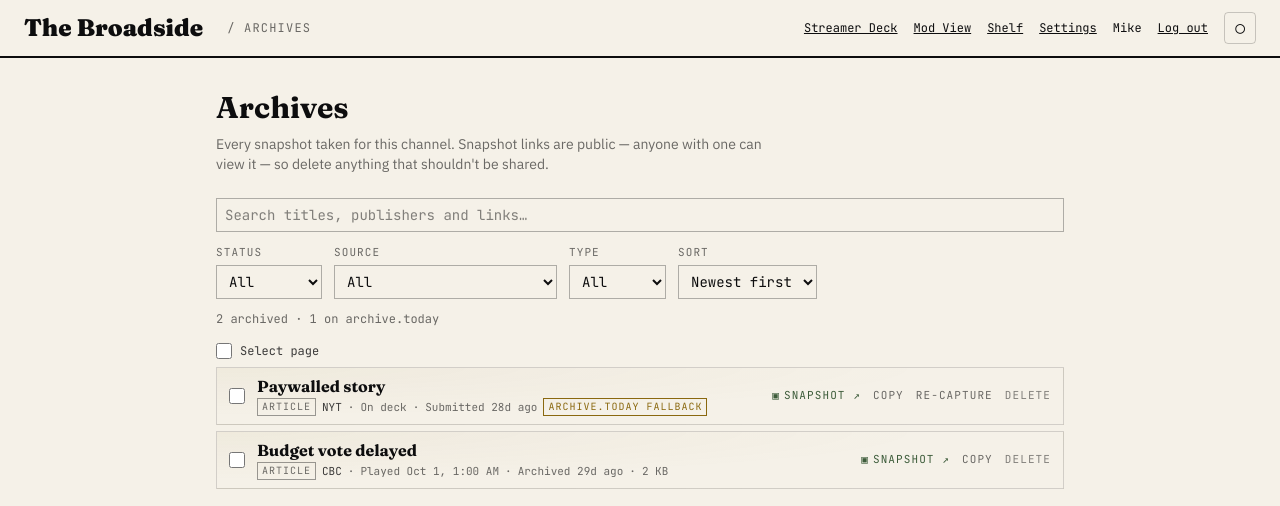
ArchivesView › narrows the list as you search
expect the link "Budget vote delayed" is shown: met, box top-left (257, 440), bottom-right (417, 460)
Type "nytimes" into the search field named "search archives" at (640, 215), box top-left (216, 198), bottom-right (1064, 232)
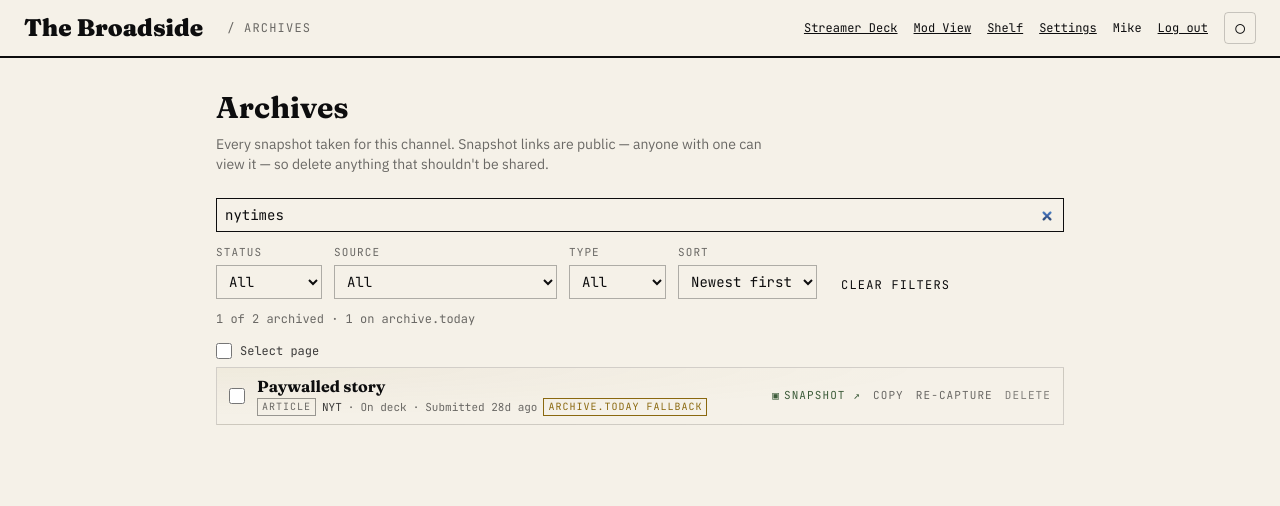
expect the link "Paywalled story" is shown: met, box top-left (257, 376), bottom-right (385, 396)
expect the link "Budget vote delayed" is gone: met
expect the text "1 of 2 archived · 1 on archive.today" is shown: met, box top-left (216, 310), bottom-right (475, 326)
